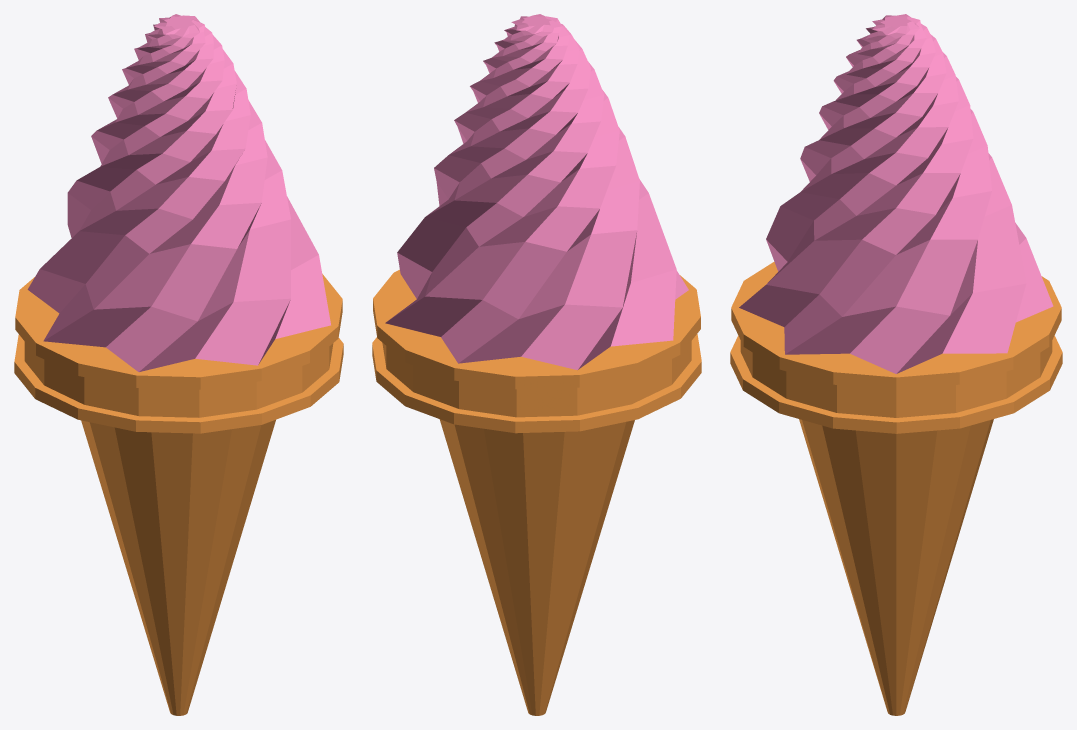
3 renders of one model, left to right at view 1: azimuth 30°, elevation 25°; view 2: azimuth 150°, elevation 25°; view 3: azimuth 270°, elevation 25°, orthographic.
Parts seen in each view (by area): view 1: Circle; view 2: Circle; view 3: Circle.
Boxes of the visible parts, x1,y1,x2,y2 form: Circle: [14, 14, 343, 715]; Circle: [372, 14, 701, 715]; Circle: [730, 14, 1062, 715].
Bounding box in the file's own units: 1.1 × 2.53 × 1.1.
Materials: 1 (1 with a texture image).
